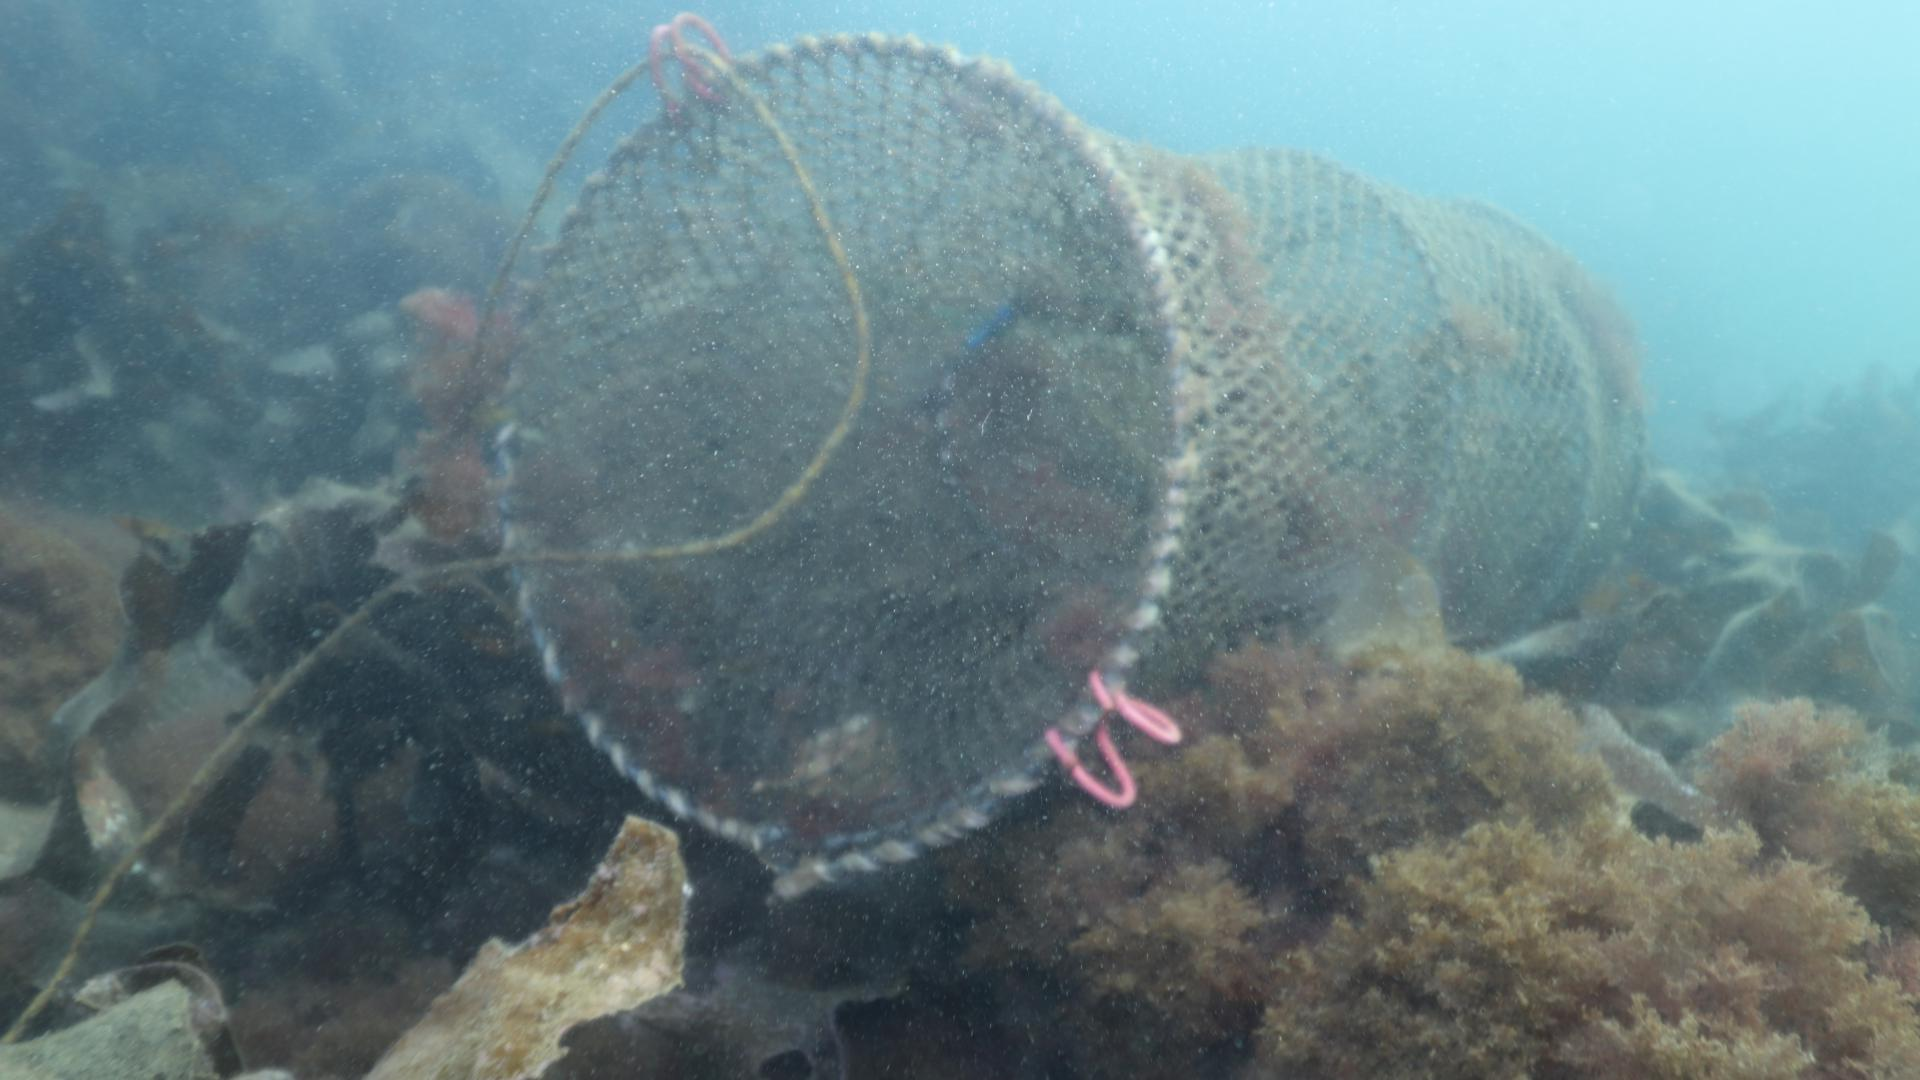rope: (0, 44, 866, 1050)
spring fish trap: (491, 30, 1654, 898)
